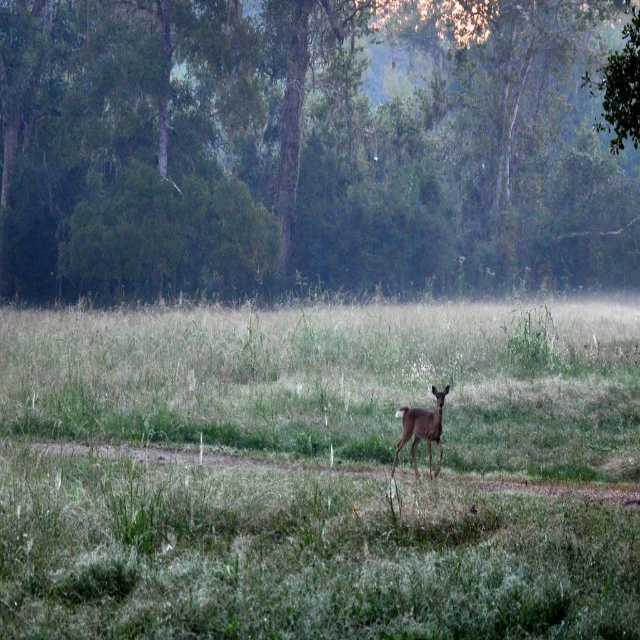Deer: (396, 383, 450, 474)
